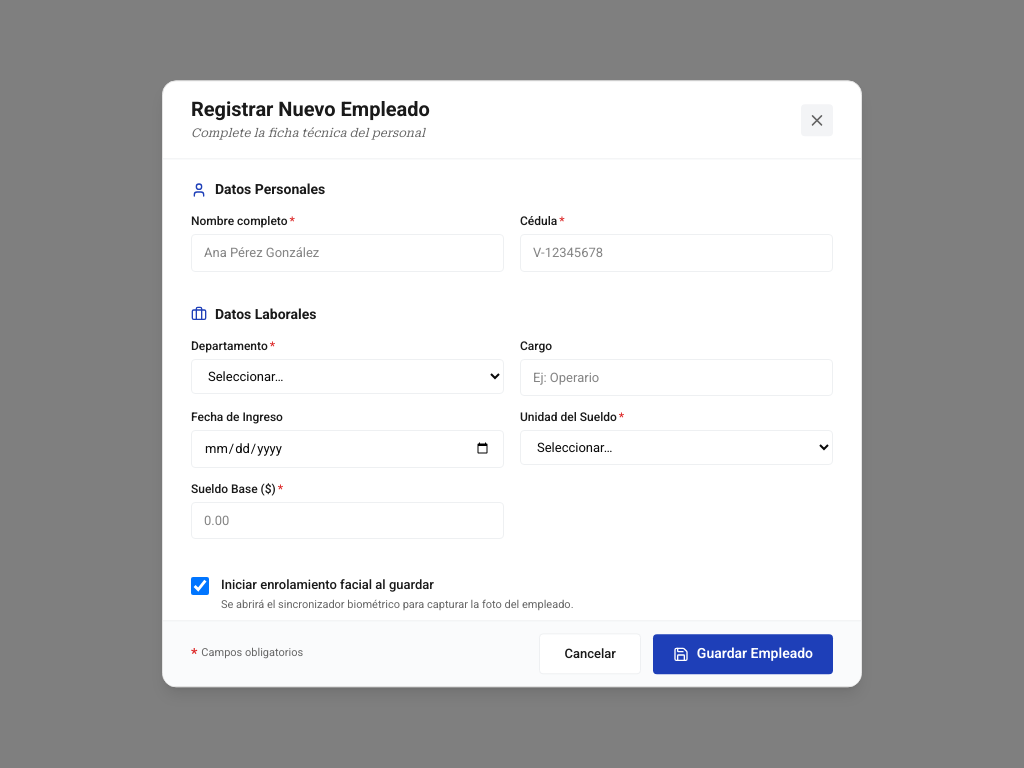
Test: NewEmployeeDialog › relabels the amount field to name the chosen unit instead of the old ambiguous label
Check: the text "Sueldo Base ($)" is shown, box [191,482,276,496]
Select "Mensual" in the dropdown with test id "new-employee-salary-kind": {"x": 676, "y": 448} [520,430,833,465]
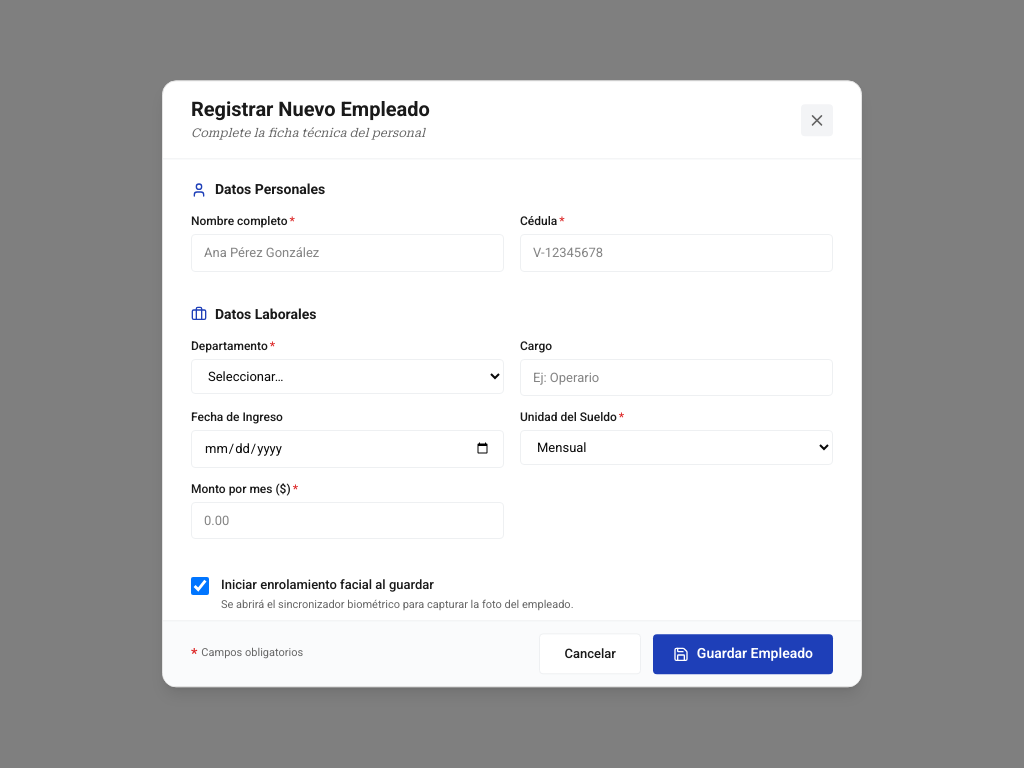
Check: the text "Monto por mes ($)" is shown, box [191,482,291,496]
Check: the text "Sueldo Base ($)" is gone
Select "Diario" in the dropdown with test id "new-employee-salary-kind": {"x": 676, "y": 448} [520,430,833,465]
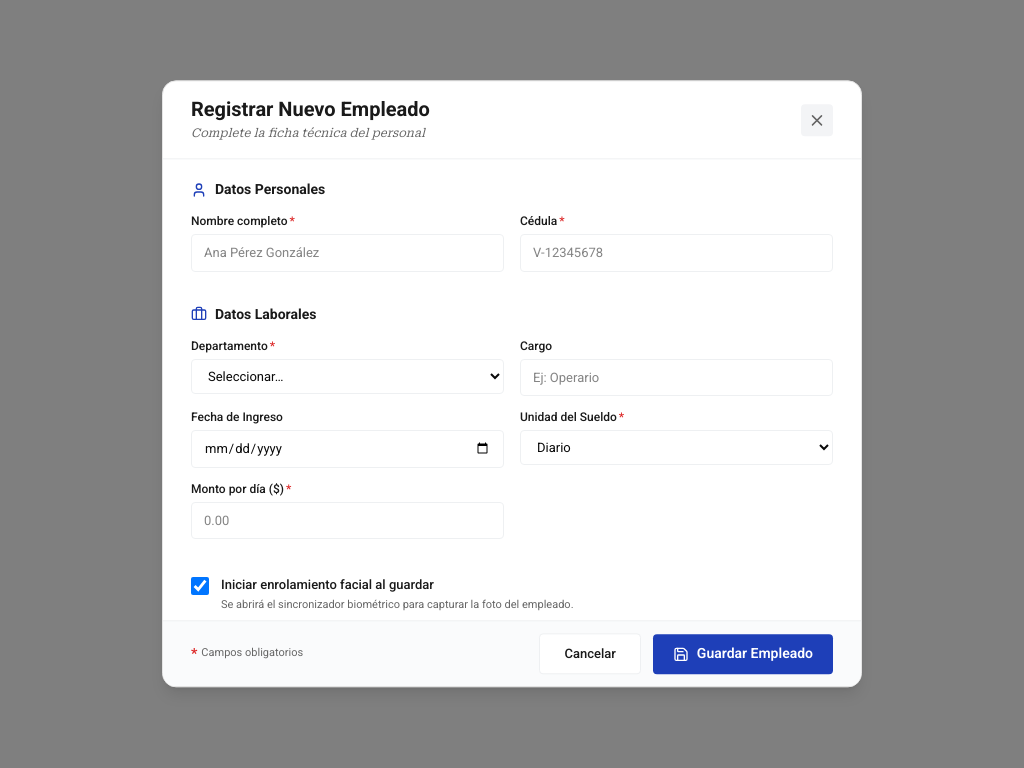
Check: the text "Monto por día ($)" is shown, box [191,482,284,496]
Select "Por hora" in the dropdown with test id "new-employee-salary-kind": {"x": 676, "y": 448} [520,430,833,465]
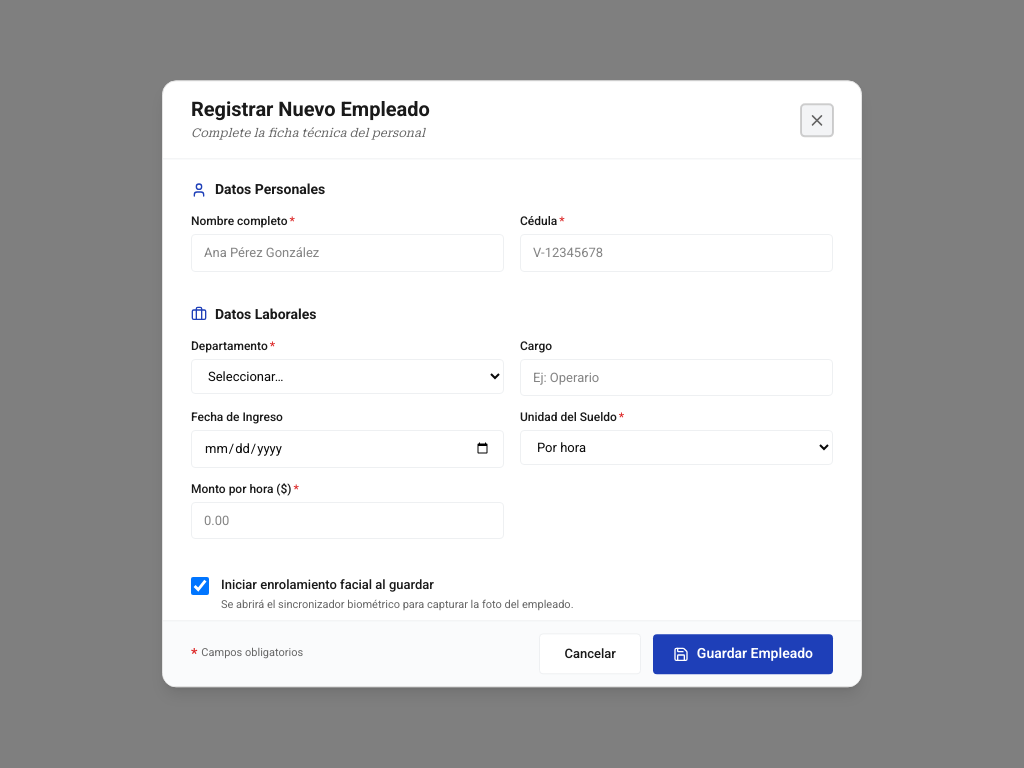
Check: the text "Monto por hora ($)" is shown, box [191,482,292,496]
